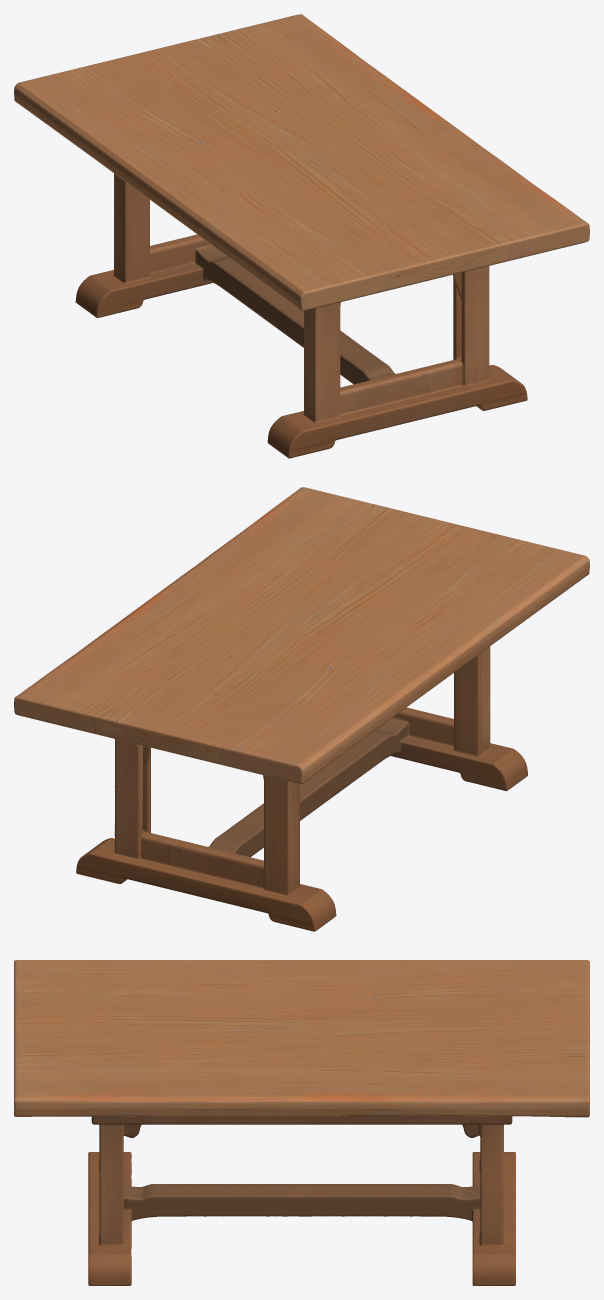
Rendered from detailed_realistic_model_grandoaktable_02.glb.
3 views of the same model, one above another, from view 1: azimuth 30°, elevation 25°; view 2: azimuth 150°, elevation 25°; view 3: azimuth 270°, elevation 25° (orthographic).
Visible parts, largest first — view 1: tripo_node_85e36d7a-e42f-4bcb-a598-4a5dee9e552a; view 2: tripo_node_85e36d7a-e42f-4bcb-a598-4a5dee9e552a; view 3: tripo_node_85e36d7a-e42f-4bcb-a598-4a5dee9e552a.
Boxes of the visible parts, left/top/right/bottom form: tripo_node_85e36d7a-e42f-4bcb-a598-4a5dee9e552a: left=14, top=14, right=589, bottom=458; tripo_node_85e36d7a-e42f-4bcb-a598-4a5dee9e552a: left=14, top=487, right=589, bottom=931; tripo_node_85e36d7a-e42f-4bcb-a598-4a5dee9e552a: left=14, top=960, right=589, bottom=1285.
Size of the model in its own units: 0.582 by 0.3818 by 1.
1 material, 1 textured.
